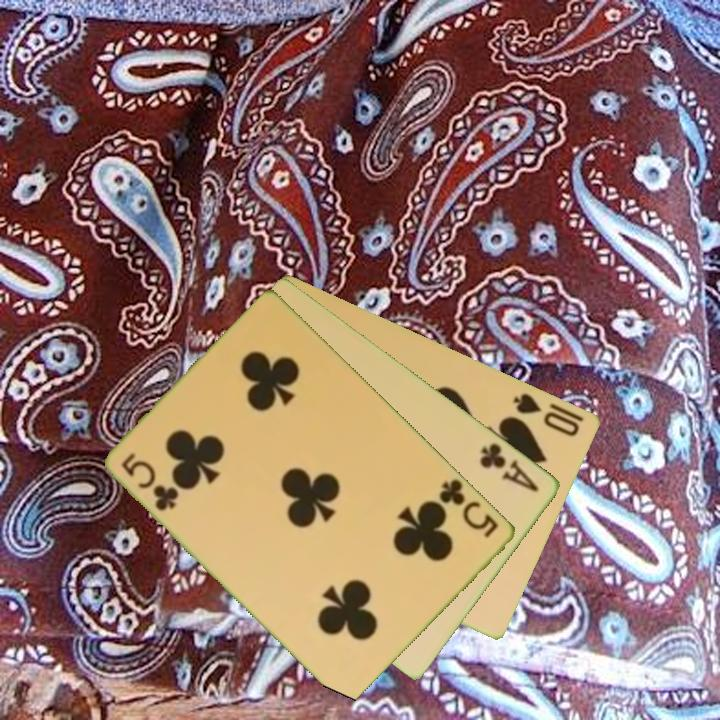10s: (510, 389, 583, 439)
5c: (436, 475, 502, 541), (118, 449, 183, 514)
Ac: (476, 439, 543, 495)
